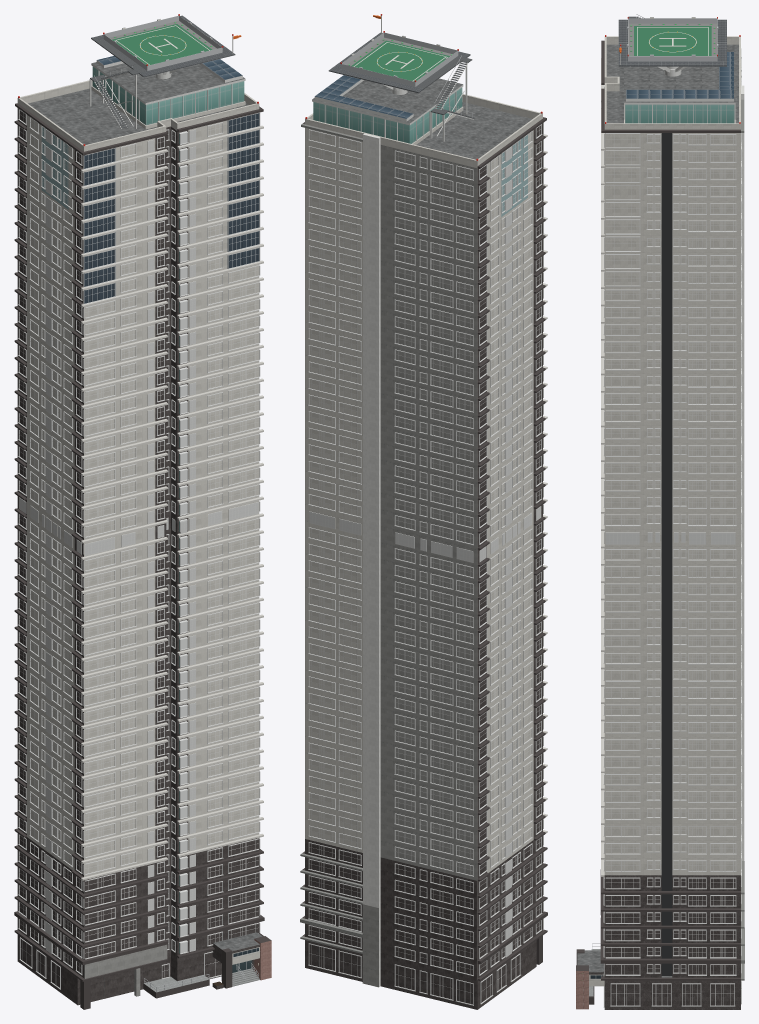
File: HighriseTower103_L1_5x4.fbx
3 renders of one model, left to right at view 1: azimuth 30°, elevation 25°; view 2: azimuth 150°, elevation 25°; view 3: azimuth 270°, elevation 25°, orthographic. The views are drawn at different scales.
Visible parts, largest first — view 1: HighriseTower103_L1_5x4; view 2: HighriseTower103_L1_5x4; view 3: HighriseTower103_L1_5x4.
Boxes of the visible parts, <box> form: HighriseTower103_L1_5x4: <box>14,14,271,1009</box>; HighriseTower103_L1_5x4: <box>300,14,547,1009</box>; HighriseTower103_L1_5x4: <box>576,14,744,1009</box>.
Size of the model in its own units: 3320 by 16248 by 2600.
1 material, 1 textured.
